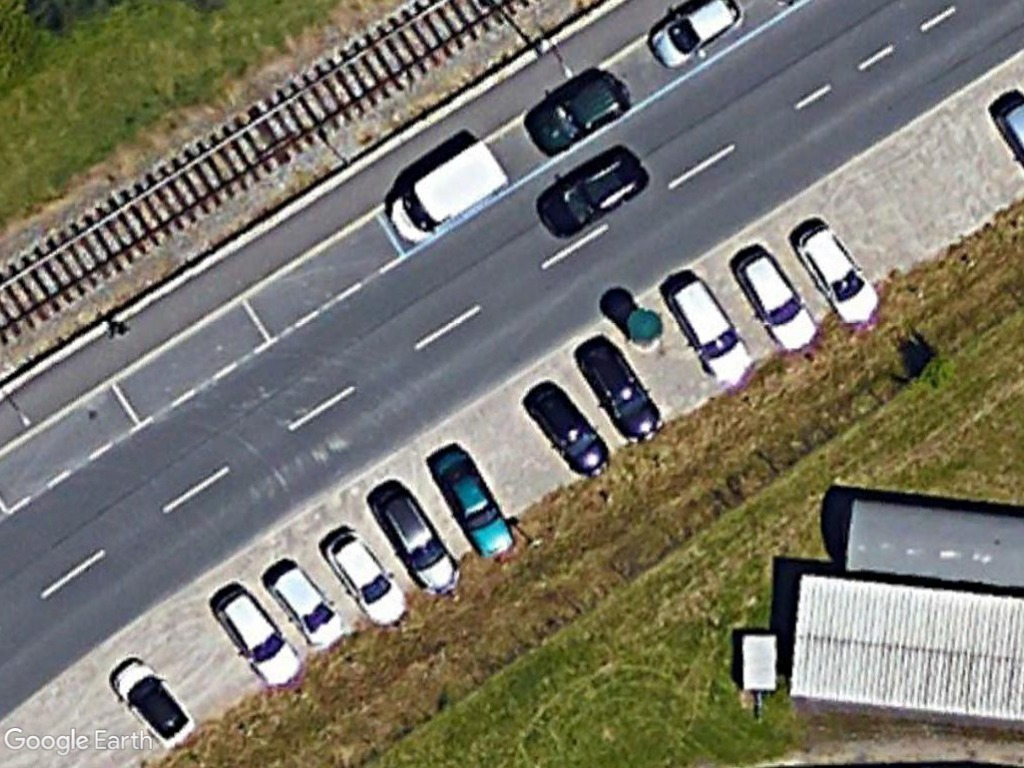car: (369, 484, 465, 604), (536, 143, 651, 243), (726, 242, 823, 353), (423, 446, 515, 563), (790, 217, 885, 328), (205, 585, 303, 690), (316, 525, 413, 630), (572, 335, 666, 443), (525, 59, 628, 157), (664, 277, 756, 384), (521, 382, 614, 480), (108, 661, 198, 747), (270, 559, 347, 651)
van: (384, 131, 509, 249)
